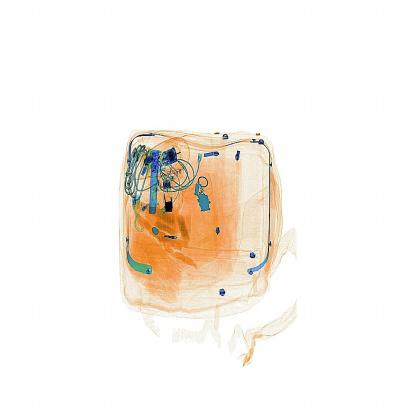pliers: (144, 148, 170, 215)
